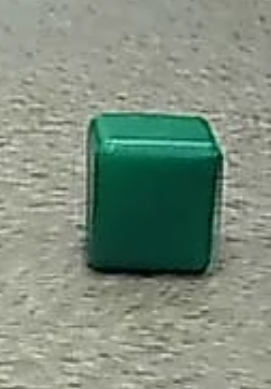green_cube: (72, 106, 227, 279)
